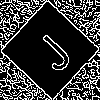J: (25, 25, 76, 75)
